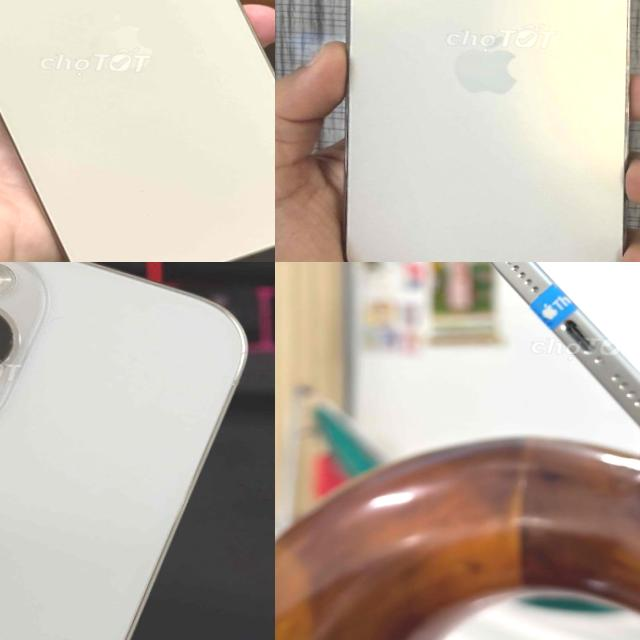gen_12_13: (0, 0, 275, 262)
gen_14: (0, 262, 256, 640), (319, 0, 640, 262)
